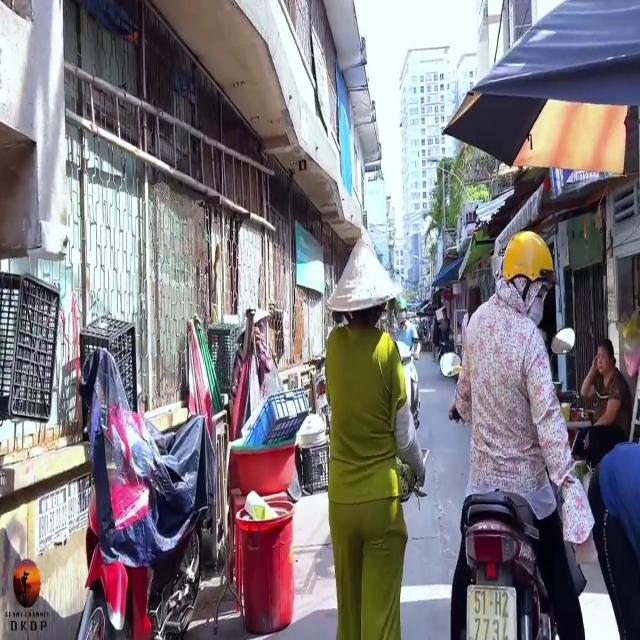bien_trang: (464, 580, 518, 640)
